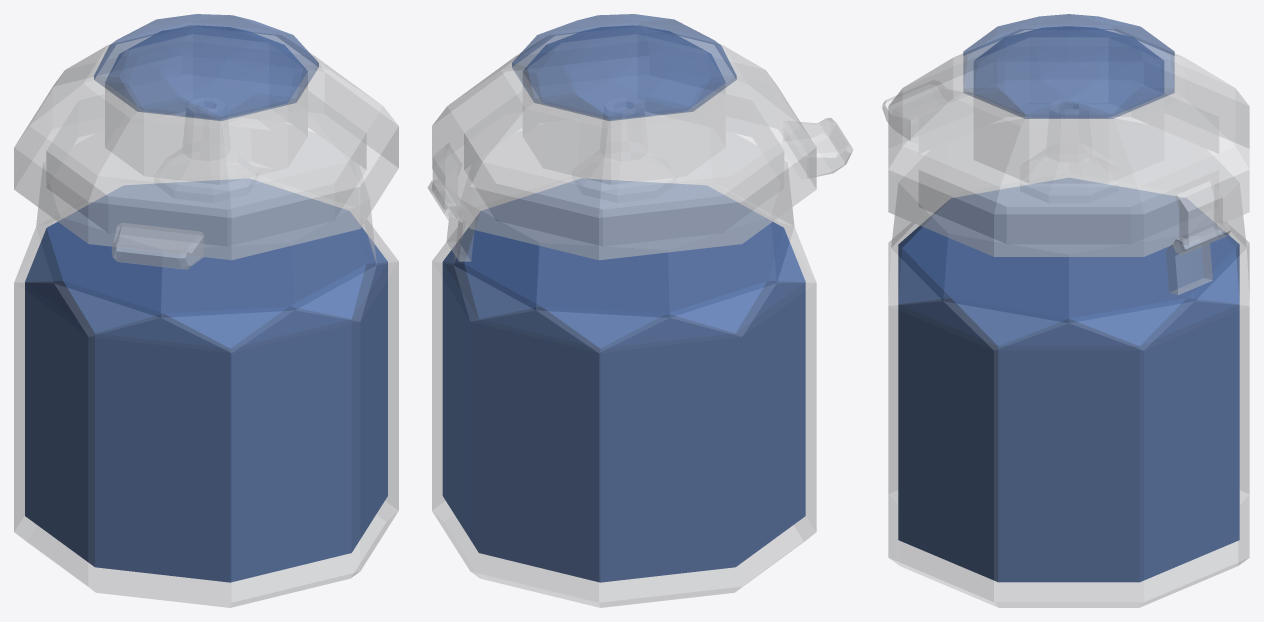
Rendered from miniature-paint-pot-3cf152.glb.
The picture shows the model from 3 angles, left to right: view 1: azimuth 30°, elevation 25°; view 2: azimuth 150°, elevation 25°; view 3: azimuth 270°, elevation 25°; orthographic projection.
Visible parts, largest first — view 1: pot-shell, pot-paint, lid-shell; view 2: pot-shell, pot-paint, lid-shell; view 3: pot-shell, pot-paint, lid-shell.
Part boxes in pixels (bbox=[...]): pot-shell: bbox=[14, 97, 398, 607]; pot-paint: bbox=[25, 178, 387, 582]; lid-shell: bbox=[14, 14, 398, 269]; pot-shell: bbox=[432, 97, 816, 607]; pot-paint: bbox=[442, 178, 805, 582]; lid-shell: bbox=[427, 14, 853, 260]; pot-shell: bbox=[888, 99, 1249, 607]; pot-paint: bbox=[898, 178, 1239, 582]; lid-shell: bbox=[882, 14, 1249, 256].
Bounding box in the file's own units: 0.0254 × 0.0381 × 0.0254.
